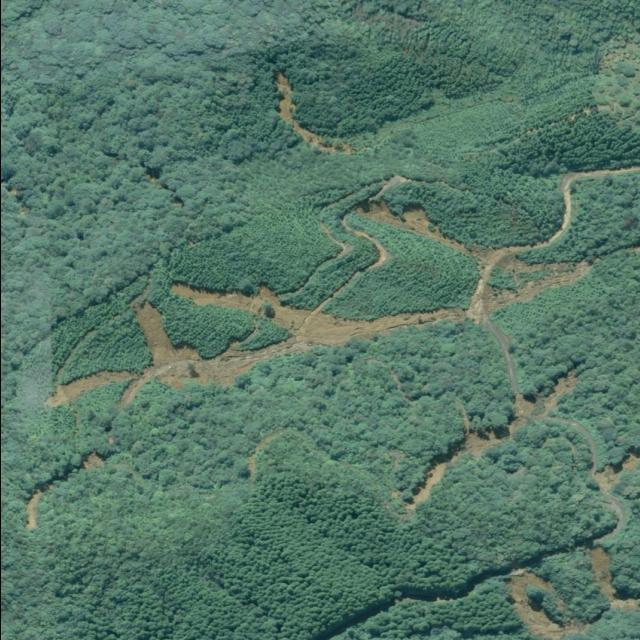landslide: (45, 166, 638, 408), (405, 371, 578, 511), (274, 70, 354, 153)
